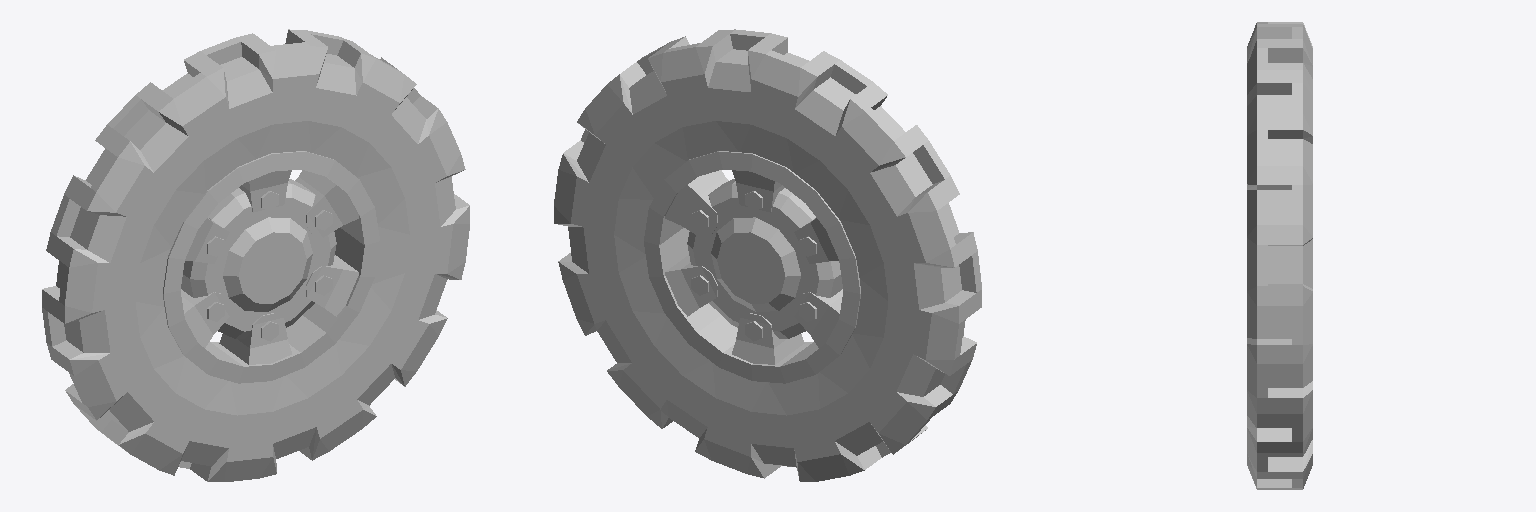
File: fant_offroad_wheel_large_2.obj
The picture shows the model from 3 angles: view 1: azimuth 30°, elevation 25°; view 2: azimuth 150°, elevation 25°; view 3: azimuth 270°, elevation 25°; orthographic projection.
Parts seen in each view (by area): view 1: fant_wheel_large_2_Mesh; view 2: fant_wheel_large_2_Mesh; view 3: fant_wheel_large_2_Mesh.
Part boxes in pixels (left/top/right/bottom): fant_wheel_large_2_Mesh: left=42, top=29, right=469, bottom=481; fant_wheel_large_2_Mesh: left=554, top=29, right=981, bottom=481; fant_wheel_large_2_Mesh: left=1247, top=22, right=1312, bottom=489.
Size of the model in its own units: 7.03 by 7.03 by 1.